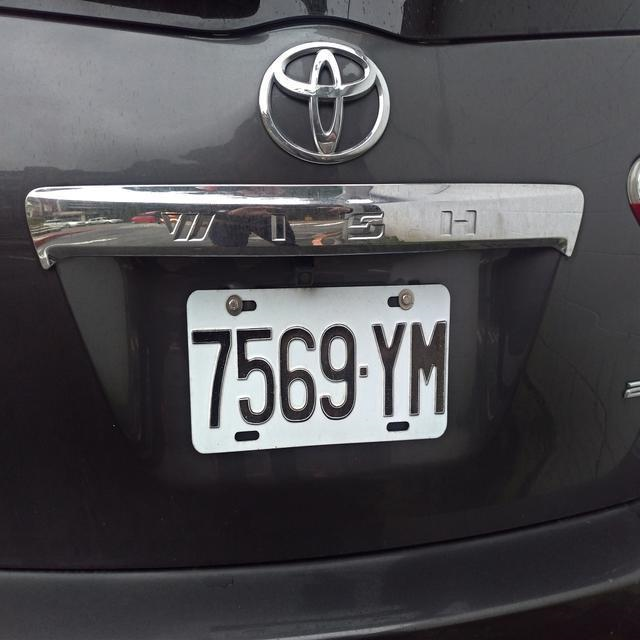license: (187, 314, 452, 434)
